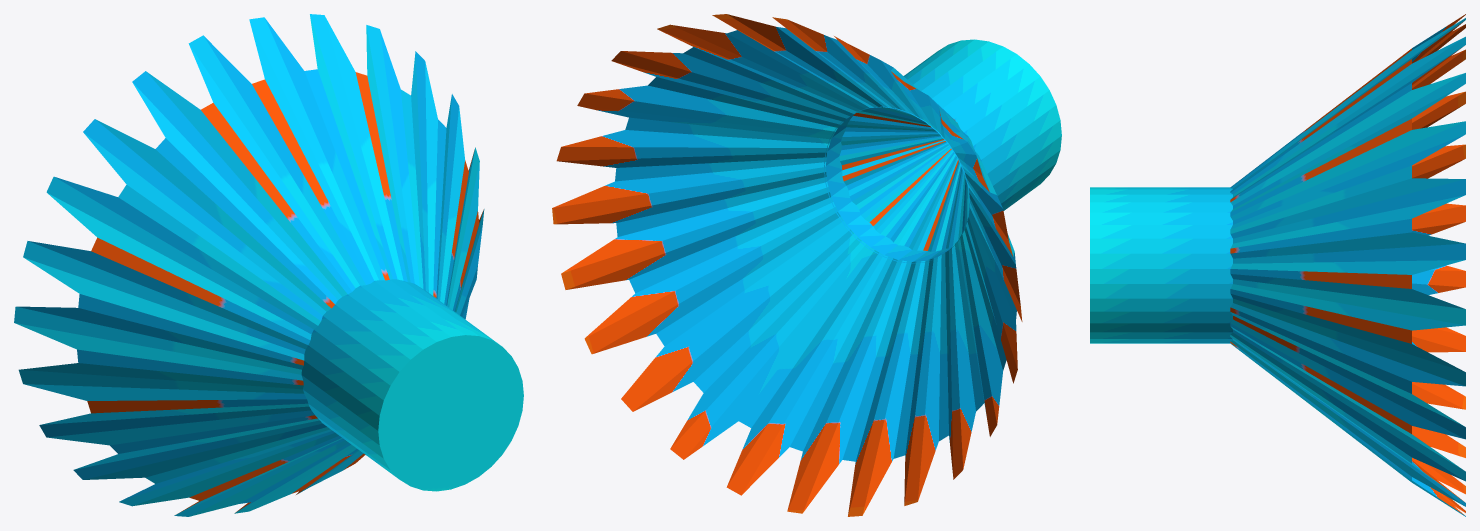
File: BF_Reactor_Shield_Stabiliser_Field.obj
3 views of the same model, side by side, from view 1: azimuth 30°, elevation 25°; view 2: azimuth 150°, elevation 25°; view 3: azimuth 270°, elevation 25° (orthographic). The views are drawn at different scales.
Visible parts, largest first — view 1: Cone_Cone.001; view 2: Cone_Cone.001; view 3: Cone_Cone.001.
Part boxes in pixels (<box>): Cone_Cone.001: <box>14,14,523,516</box>; Cone_Cone.001: <box>552,14,1061,516</box>; Cone_Cone.001: <box>1090,14,1465,516</box>.
Bounding box in the file's own units: 2.79 × 2.79 × 2.07.
1 material, 1 textured.
